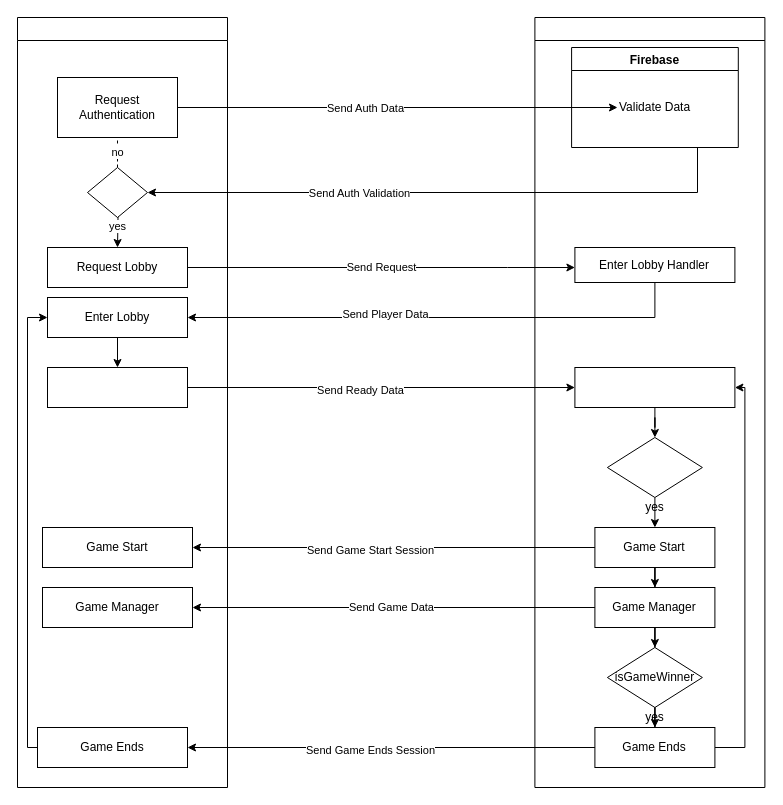
Image size: 783x805. Some labels were removed from this diagram. Each missing label, with the box of its shape:
All Player is Ready: (606, 436, 702, 498)
Client: (16, 16, 228, 788)
Lobby Handler: (574, 366, 735, 408)
Player is Ready: (46, 366, 188, 408)
Server: (534, 16, 765, 788)
Success: (86, 166, 148, 218)
